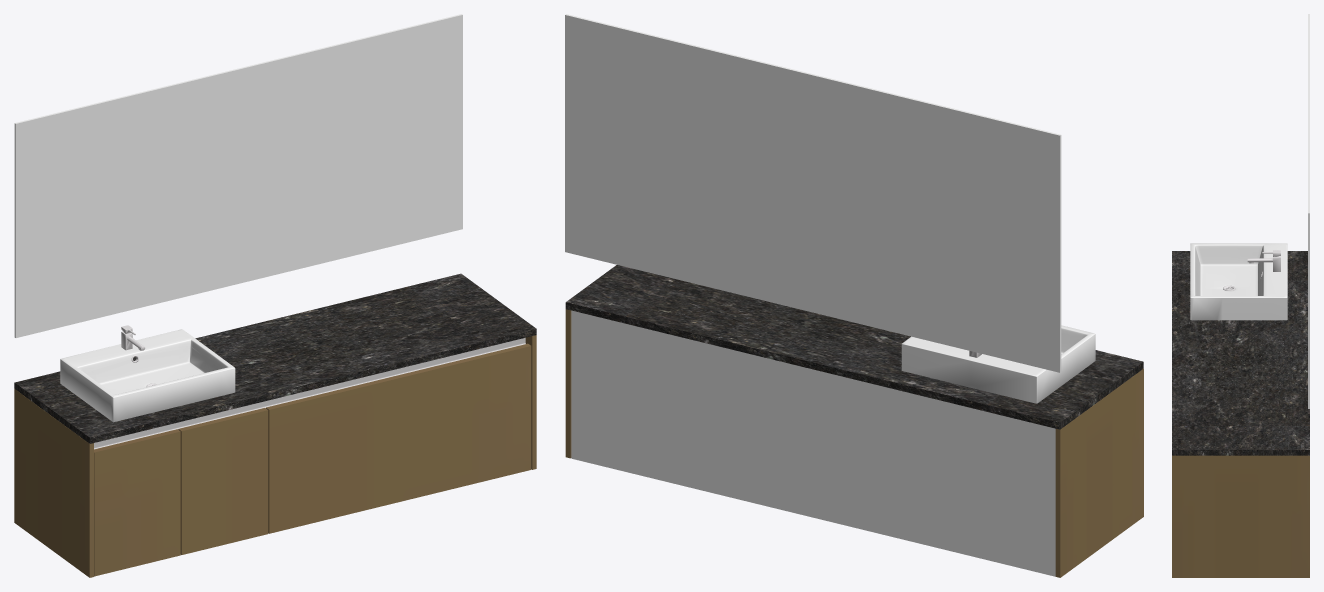
Rendered from IBEN-final.glb.
The picture shows the model from 3 angles, left to right: view 1: azimuth 30°, elevation 25°; view 2: azimuth 150°, elevation 25°; view 3: azimuth 270°, elevation 25°; orthographic projection. The views are drawn at different scales.
Visible parts, largest first — view 1: IBEN; view 2: IBEN; view 3: IBEN.
Boxes of the visible parts, <box> form: IBEN: <box>14,14,536,577</box>; IBEN: <box>565,14,1143,577</box>; IBEN: <box>1172,14,1309,577</box>.
Size of the model in its own units: 1.5 by 1.28 by 0.4387.
Materials: 7 (2 with a texture image).
